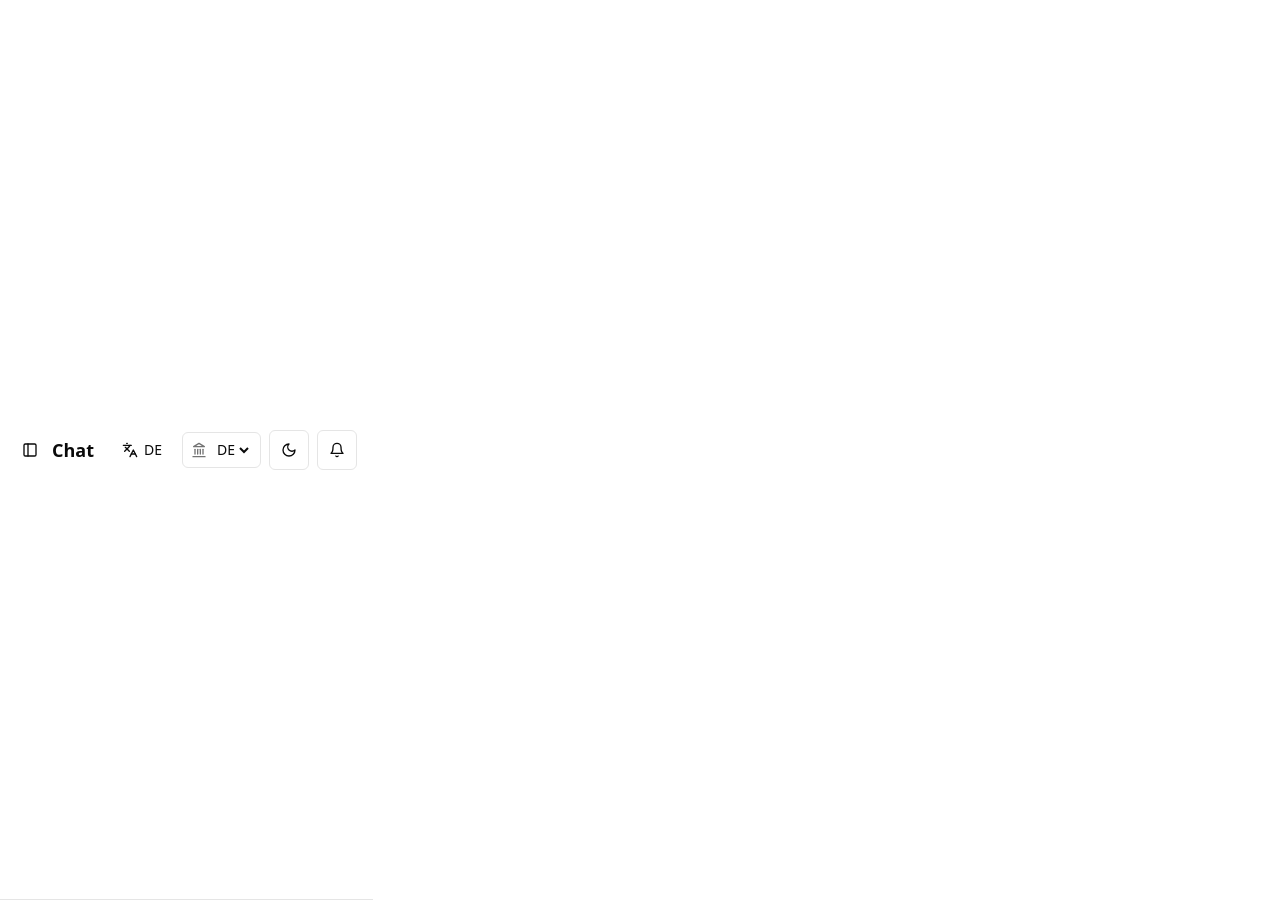
Scenario: PageHeader › labels a no_longer_available notification in English
The width and height of the screenshot is (1280, 900).
Step 1. Click the button named "Notifications" → (337, 450), box [317,430,357,470]
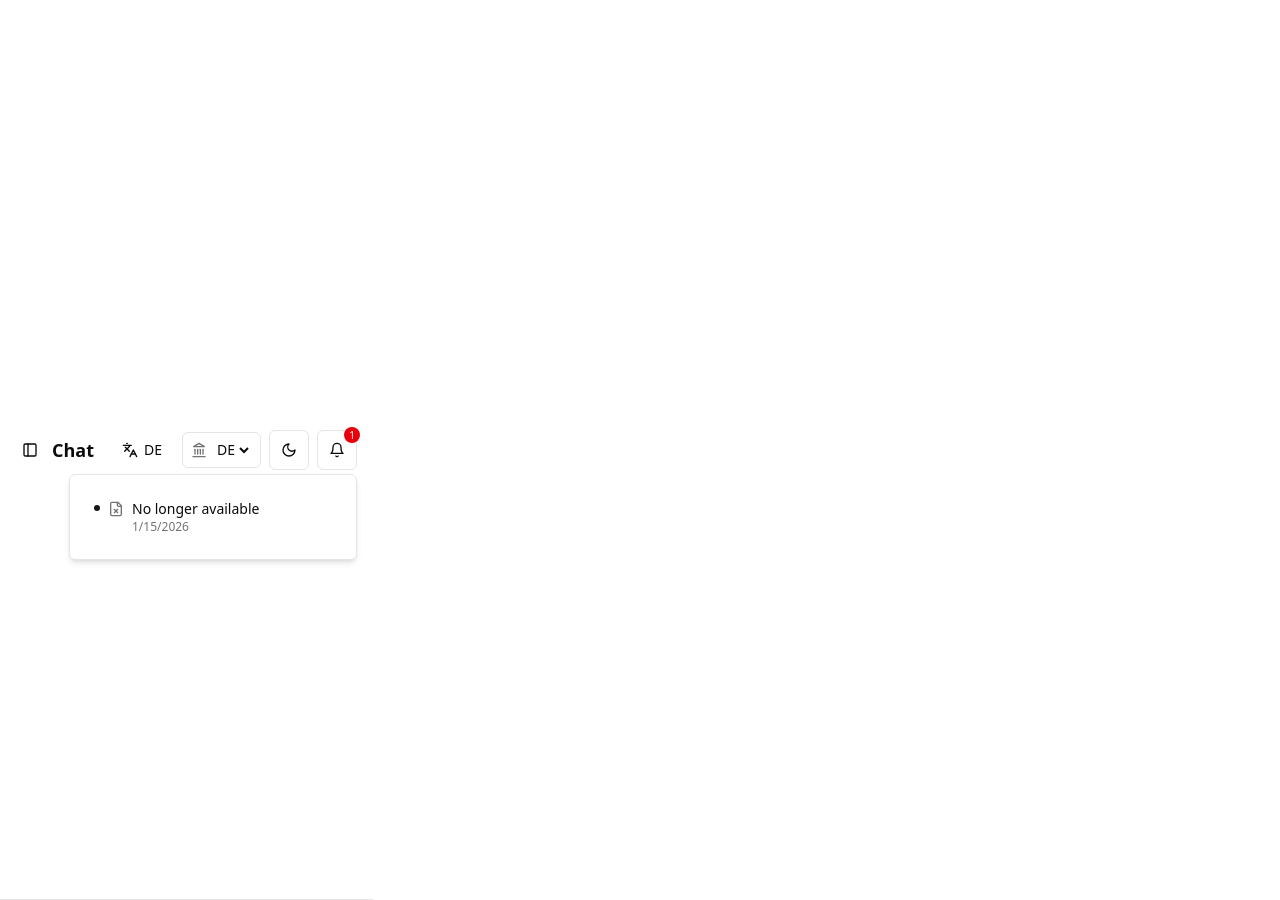
Result: the text "No longer available" is shown at [132,499,259,519]
